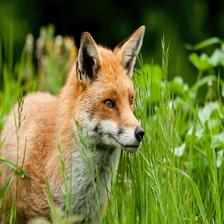fox: (1, 24, 167, 224)
